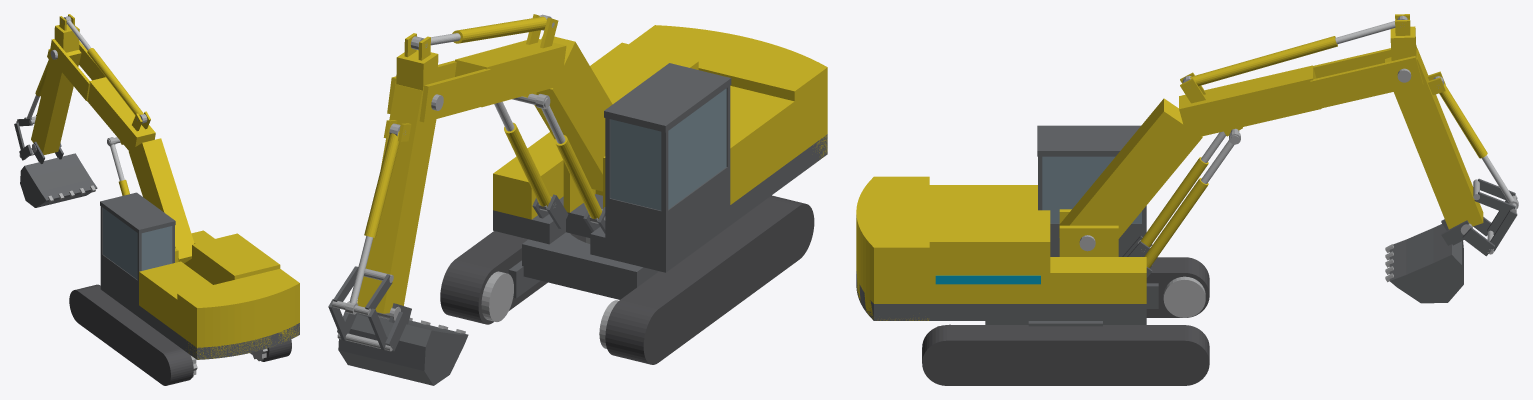
Rendered from EX_SY265E_bron.glb.
3 views of the same model, side by side, from view 1: azimuth 30°, elevation 25°; view 2: azimuth 150°, elevation 25°; view 3: azimuth 270°, elevation 25° (orthographic). The views are drawn at different scales.
Parts seen in each view (by area): view 1: Bovenwagen__1, Rups_L__0, Giek__0, Bovenwagen__2, EX_SY265E_Cabine_Glas__0, Bak__0, Bovenwagen__5, Stick__0, Bovenwagen__0, Giek__1, EX_SY265E_Cabine__1, EX_SY265E_Cabine__0 (+5 smaller); view 2: Rups_L__0, Bovenwagen__1, EX_SY265E_Cabine_Glas__0, Stick__0, Bovenwagen__0, Bovenwagen__5, Giek__0, Bak__0, EX_SY265E_Cabine__0, Onderwagen__0, EX_SY265E_Cabine__1, Rups_R__0 (+18 smaller); view 3: Rups_R__0, Bovenwagen__2, Bovenwagen__1, Giek__0, Stick__0, Giek__1, Bovenwagen__0, Bovenwagen__4, Bak__0, Giek__3, EX_SY265E_Cabine_Glas__0, EX_SY265E_Cabine__1 (+12 smaller).
Boxes of the visible parts, x1=… form: Bovenwagen__1: x1=177, y1=269, x2=299, y2=359; Rups_L__0: x1=69, y1=284, x2=193, y2=385; Giek__0: x1=128, y1=138, x2=194, y2=263; Bovenwagen__2: x1=192, y1=233, x2=280, y2=284; EX_SY265E_Cabine_Glas__0: x1=103, y1=208, x2=172, y2=279; Bak__0: x1=20, y1=153, x2=97, y2=207; Bovenwagen__5: x1=139, y1=261, x2=212, y2=332; Stick__0: x1=31, y1=50, x2=81, y2=154; Bovenwagen__0: x1=100, y1=277, x2=299, y2=359; Giek__1: x1=87, y1=77, x2=155, y2=150; EX_SY265E_Cabine__1: x1=100, y1=192, x2=175, y2=233; EX_SY265E_Cabine__0: x1=100, y1=254, x2=138, y2=304; Rups_L__0: x1=605, y1=195, x2=814, y2=364; Bovenwagen__1: x1=629, y1=25, x2=827, y2=158; EX_SY265E_Cabine_Glas__0: x1=610, y1=88, x2=726, y2=210; Stick__0: x1=357, y1=84, x2=436, y2=313; Bovenwagen__0: x1=493, y1=134, x2=827, y2=272; Bovenwagen__5: x1=730, y1=86, x2=794, y2=204; Giek__0: x1=534, y1=36, x2=612, y2=191; Bak__0: x1=338, y1=311, x2=468, y2=385; EX_SY265E_Cabine__0: x1=605, y1=165, x2=730, y2=252; Onderwagen__0: x1=522, y1=232, x2=658, y2=299; EX_SY265E_Cabine__1: x1=604, y1=63, x2=731, y2=132; Rups_R__0: x1=440, y1=231, x2=547, y2=324; Rups_R__0: x1=922, y1=325, x2=1209, y2=385; Bovenwagen__2: x1=929, y1=210, x2=1050, y2=303; Bovenwagen__1: x1=856, y1=176, x2=929, y2=320; Giek__0: x1=1059, y1=98, x2=1202, y2=238; Stick__0: x1=1385, y1=48, x2=1483, y2=229; Giek__1: x1=1179, y1=65, x2=1321, y2=138; Bovenwagen__0: x1=856, y1=271, x2=1146, y2=320; Bovenwagen__4: x1=1050, y1=257, x2=1146, y2=303; Bak__0: x1=1389, y1=224, x2=1463, y2=303; Giek__3: x1=1310, y1=56, x2=1423, y2=108; EX_SY265E_Cabine_Glas__0: x1=1042, y1=156, x2=1141, y2=223; EX_SY265E_Cabine__1: x1=1037, y1=125, x2=1140, y2=156.
Size of the model in its own units: 3.19 by 5.89 by 10.68.
